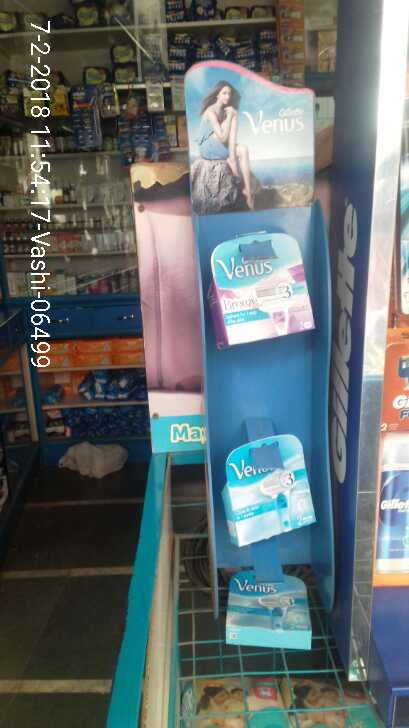venus: (216, 433, 334, 547), (209, 235, 321, 351), (222, 563, 325, 664)
